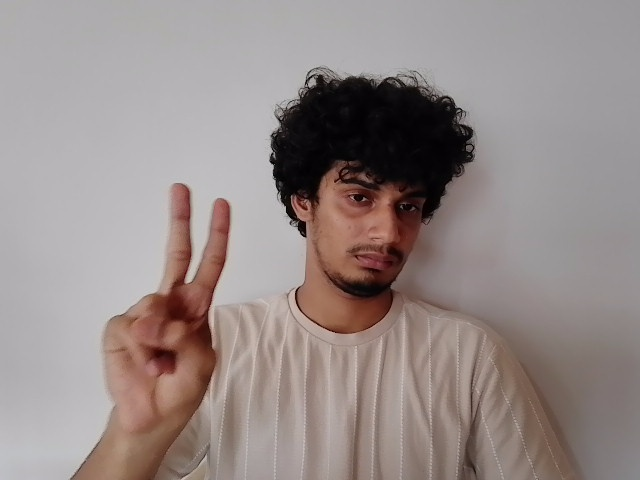travel: (94, 178, 234, 413)
